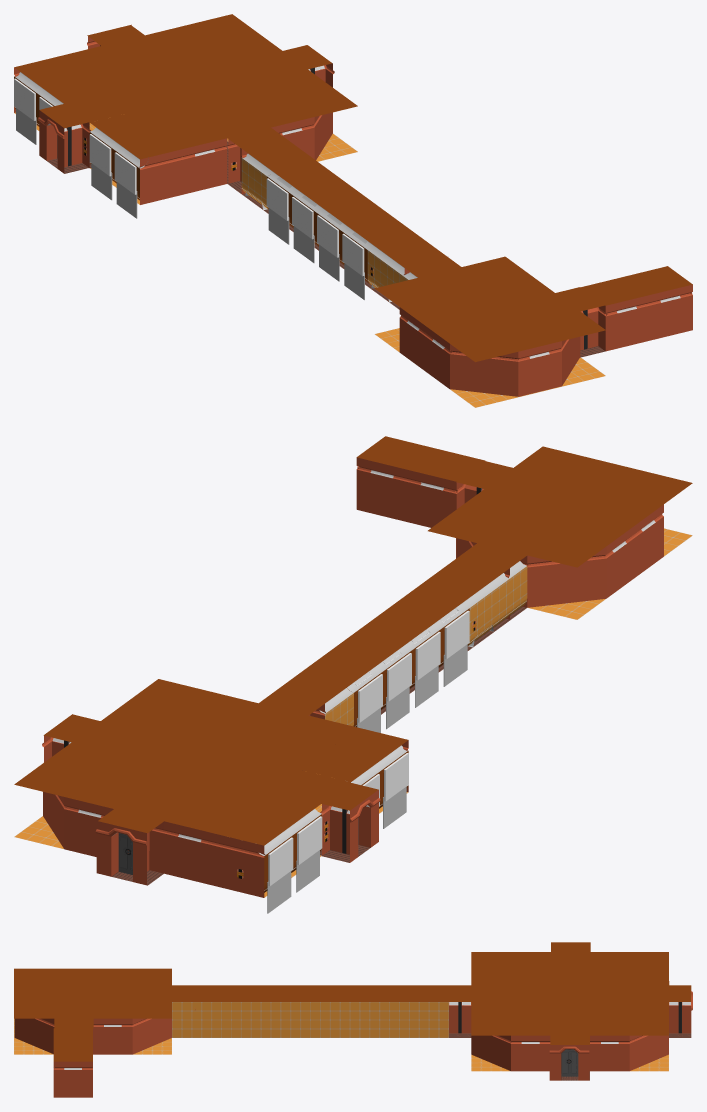
File: Level 1.fbx
3 views of the same model, one above another, from view 1: azimuth 30°, elevation 25°; view 2: azimuth 150°, elevation 25°; view 3: azimuth 270°, elevation 25° (orthographic). The views are drawn at different scales.
Parts seen in each view (by area): view 1: Wall Corner003, Wall054, Wall042, Wall062, Wall044, Wall037, Wall047, Wall038, Wall039, Plane060, Plane117, Plane121 (+63 smaller); view 2: Wall Corner002, Wall045, Wall056, Wall060, Wall043, Wall050, Wall055, Wall047, Wall039, Wall038, Plane073, Plane083 (+63 smaller); view 3: Plane043, Plane055, Wall051, Wall028, Wall046, Plane045, Plane052, Plane057, Plane059, Plane062, Wall052, Wall Corner001 (+64 smaller).
Part boxes in pixels (box(x1,y1,x2,y2)): Wall Corner003: box(450, 344, 518, 396); Wall054: box(183, 138, 227, 194); Wall042: box(605, 295, 649, 351); Wall062: box(139, 149, 183, 204); Wall044: box(648, 284, 692, 340); Wall037: box(517, 341, 561, 396); Wall047: box(37, 110, 67, 173); Wall038: box(424, 325, 451, 388); Wall039: box(399, 307, 426, 370); Plane060: box(267, 156, 335, 185); Plane117: box(115, 130, 183, 159); Plane121: box(264, 69, 332, 98); Wall Corner002: box(526, 547, 606, 607); Wall045: box(356, 457, 407, 521); Wall056: box(164, 821, 215, 885); Wall060: box(214, 833, 265, 897); Wall043: box(406, 469, 457, 527); Wall050: box(95, 821, 146, 885); Wall055: box(64, 797, 113, 856); Wall047: box(346, 790, 380, 862); Wall039: box(604, 525, 635, 598); Wall038: box(633, 504, 663, 577); Plane073: box(514, 446, 592, 479); Plane083: box(556, 513, 634, 546); Plane043: box(211, 1002, 251, 1037); Plane055: box(290, 1002, 330, 1037); Wall051: box(590, 1035, 629, 1071); Wall028: box(93, 1018, 132, 1054); Wall046: box(53, 1061, 92, 1097); Plane045: box(172, 1002, 211, 1037); Plane052: box(251, 1002, 290, 1037); Plane057: box(330, 1002, 369, 1037); Plane059: box(370, 1002, 409, 1037); Plane062: box(409, 1002, 448, 1037); Wall052: box(511, 1035, 550, 1071); Wall Corner001: box(131, 1018, 171, 1054).
Size of the model in its own units: 565 by 105 by 1352.
